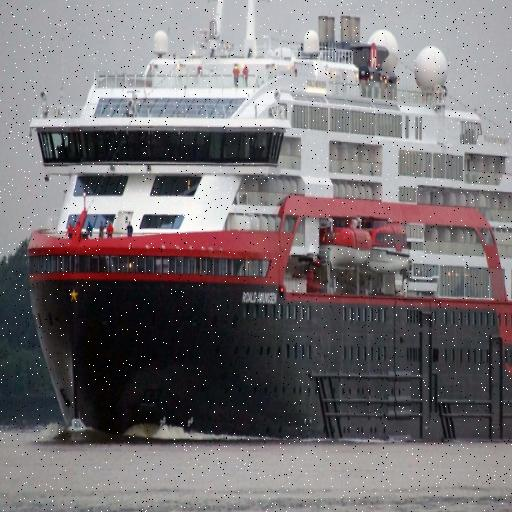cruises: (22, 1, 512, 450)
